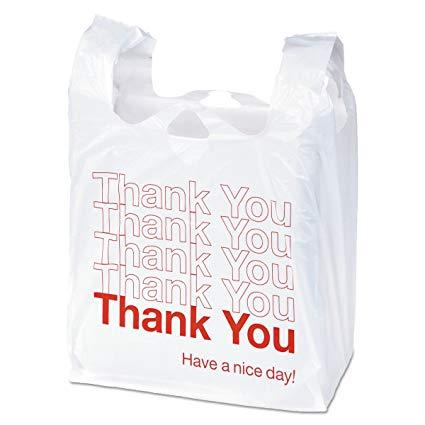LDPE: (67, 14, 357, 413)
